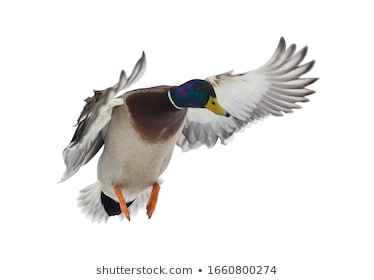duck: (45, 24, 327, 253)
